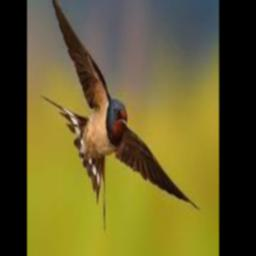Swallow: (41, 0, 200, 230)
